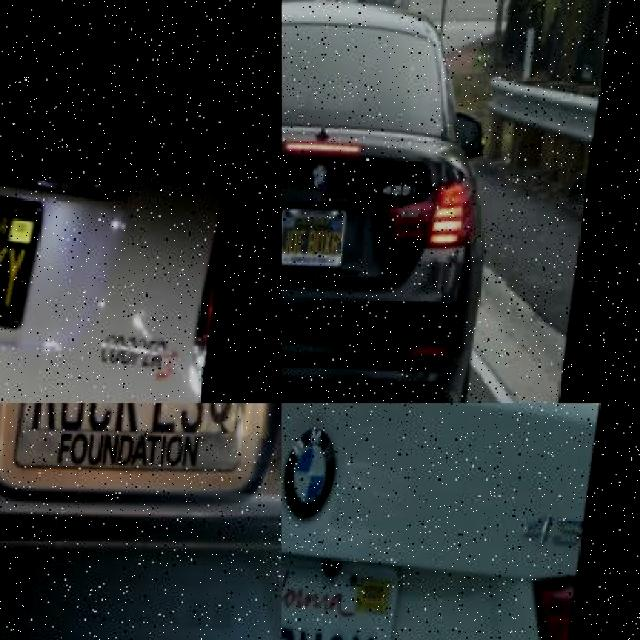licenseplate: (14, 403, 266, 522), (282, 537, 402, 640), (0, 183, 75, 334), (282, 200, 348, 271)
